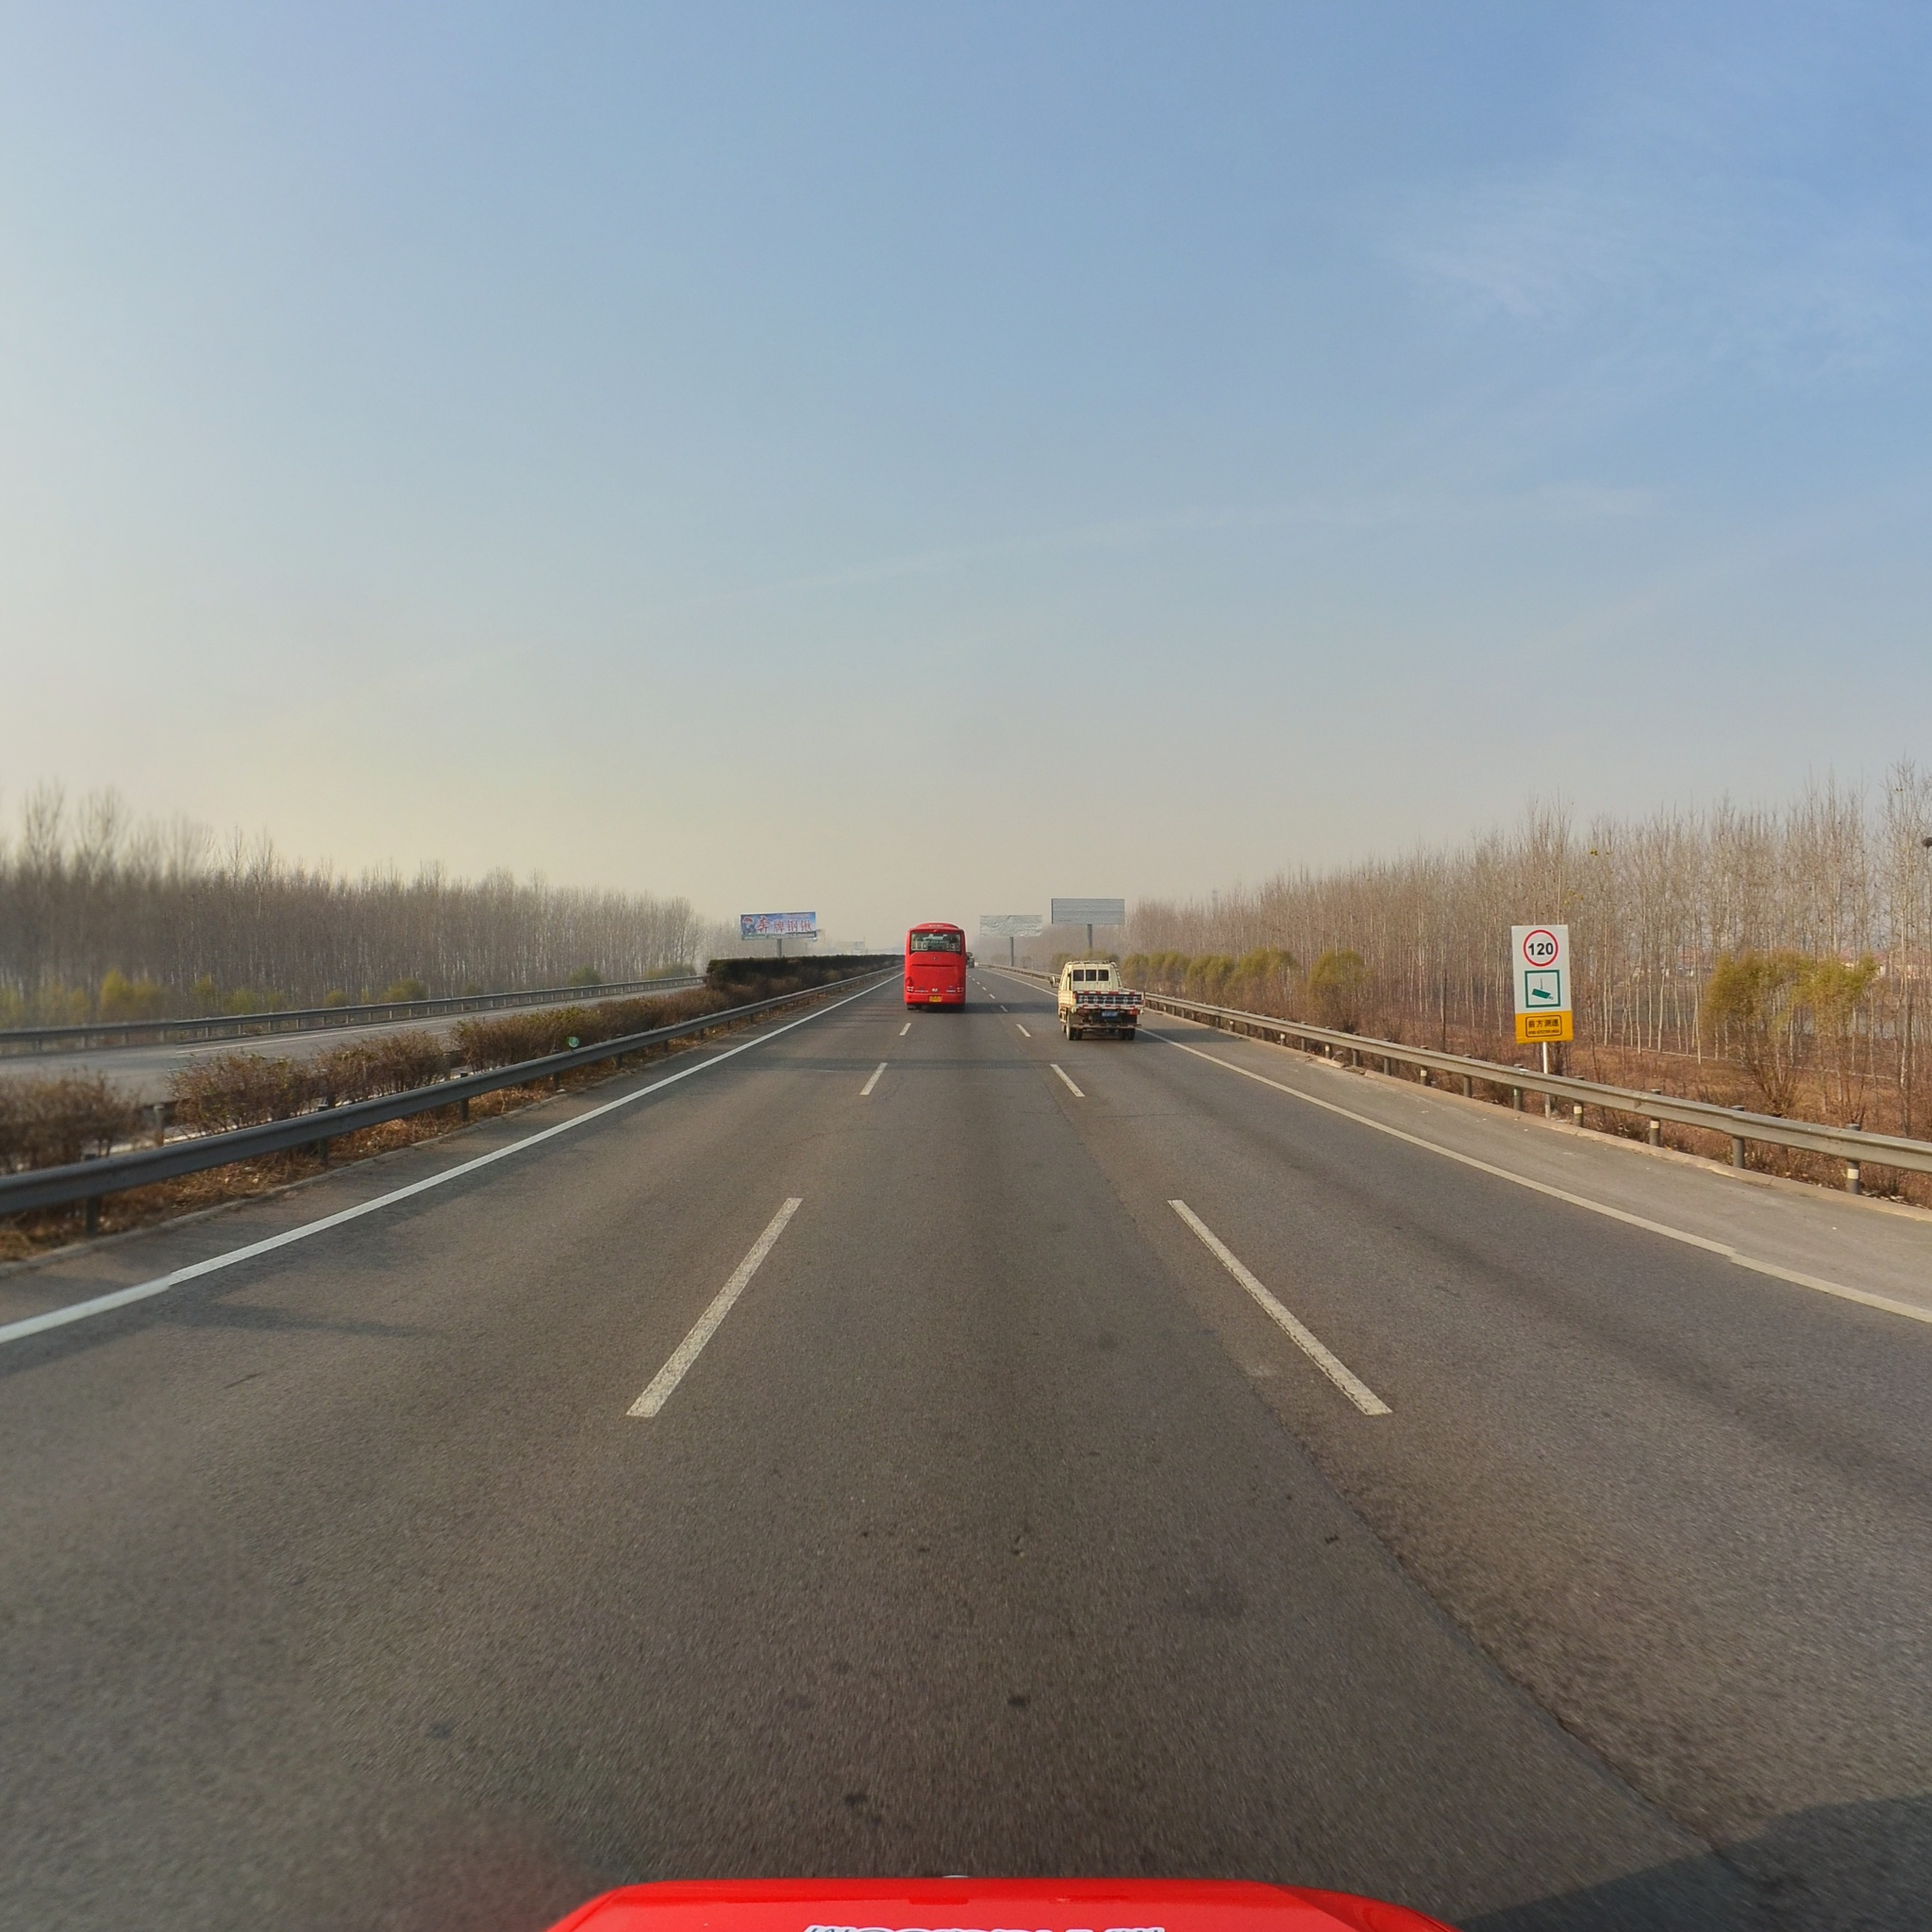traffic_sign: (1522, 929, 1559, 968)
